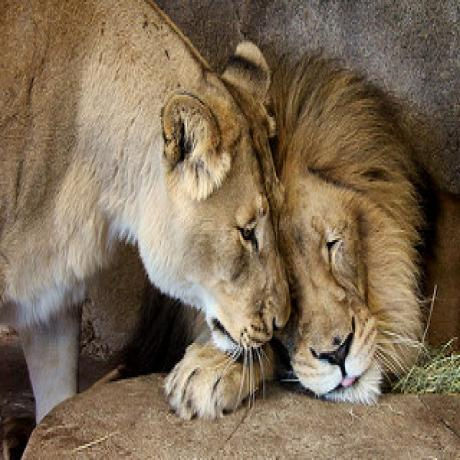Lion: (0, 0, 295, 349), (262, 45, 460, 414)
